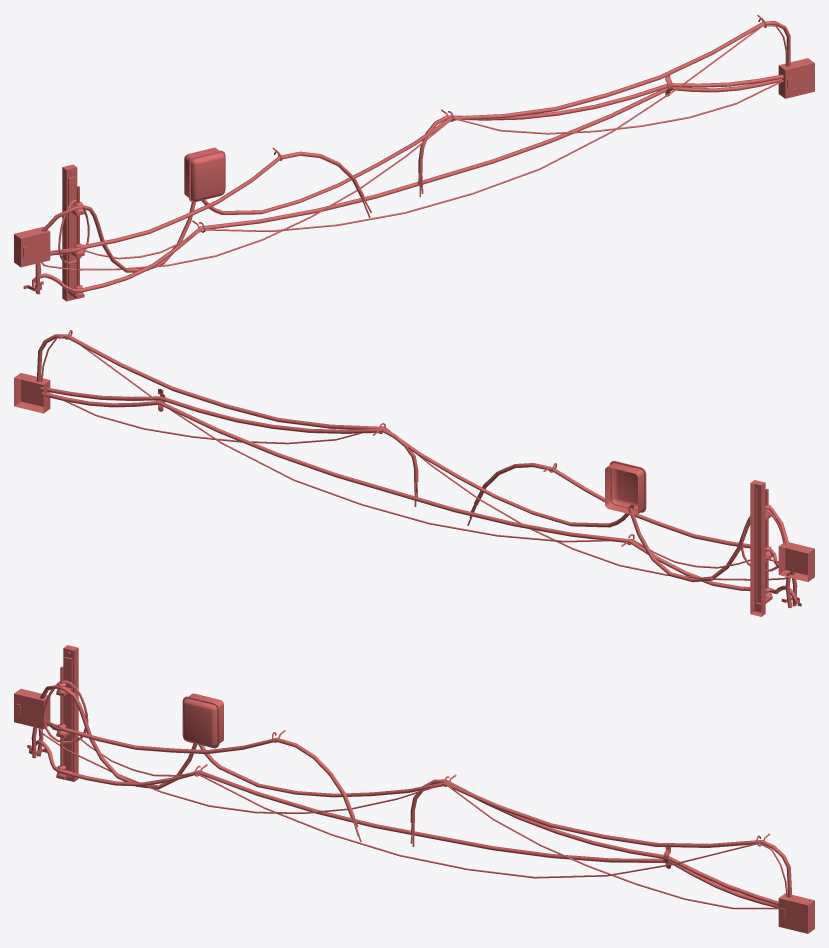
Rendered from Wire_E_Snaps004.FBX.
3 views of the same model, one above another, from view 1: azimuth 30°, elevation 25°; view 2: azimuth 150°, elevation 25°; view 3: azimuth 330°, elevation 25° (orthographic).
Parts seen in each view (by area): view 1: Geometry_Wire_E_LOD00; view 2: Geometry_Wire_E_LOD00; view 3: Geometry_Wire_E_LOD00.
Part boxes in pixels (box(x1,y1,x2,y2)): Geometry_Wire_E_LOD00: box(14, 14, 814, 301); Geometry_Wire_E_LOD00: box(14, 330, 814, 616); Geometry_Wire_E_LOD00: box(14, 645, 814, 933).
Size of what is drawn, in the model's own units: 526 by 83.07 by 21.58.
